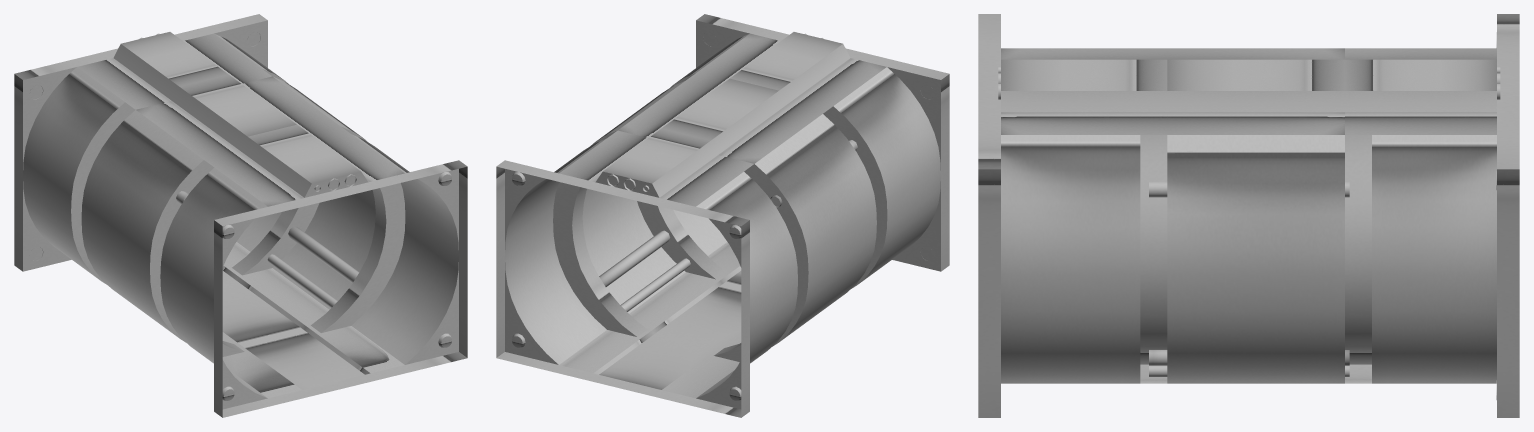
Rendered from corridorH.FBX.
The picture shows the model from 3 angles, left to right: view 1: azimuth 30°, elevation 25°; view 2: azimuth 150°, elevation 25°; view 3: azimuth 270°, elevation 25°; orthographic projection. The views are drawn at different scales.
Parts seen in each view (by area): view 1: corridorH; view 2: corridorH; view 3: corridorH.
Boxes of the visible parts, x1=… form: corridorH: x1=14, y1=14, x2=467, y2=417; corridorH: x1=496, y1=14, x2=949, y2=417; corridorH: x1=978, y1=14, x2=1519, y2=417.
Bounding box in the file's own units: 14.4 × 11.63 × 21.22.
